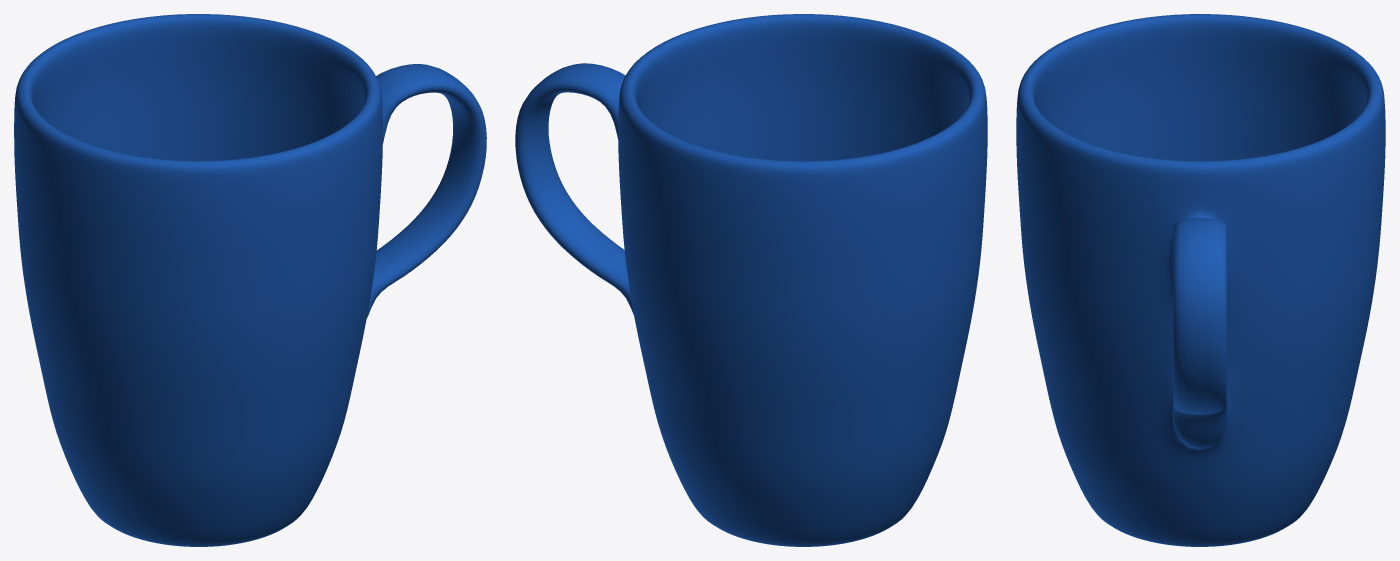
File: coffeeMug.obj
3 renders of one model, left to right at view 1: azimuth 30°, elevation 25°; view 2: azimuth 150°, elevation 25°; view 3: azimuth 270°, elevation 25°, orthographic.
Visible parts, largest first — view 1: cup; view 2: cup; view 3: cup.
Boxes of the visible parts, x1=… form: cup: x1=14, y1=14, x2=486, y2=546; cup: x1=515, y1=14, x2=987, y2=546; cup: x1=1016, y1=14, x2=1385, y2=546.
Bounding box in the file's own units: 64.91 × 59.07 × 47.15.
